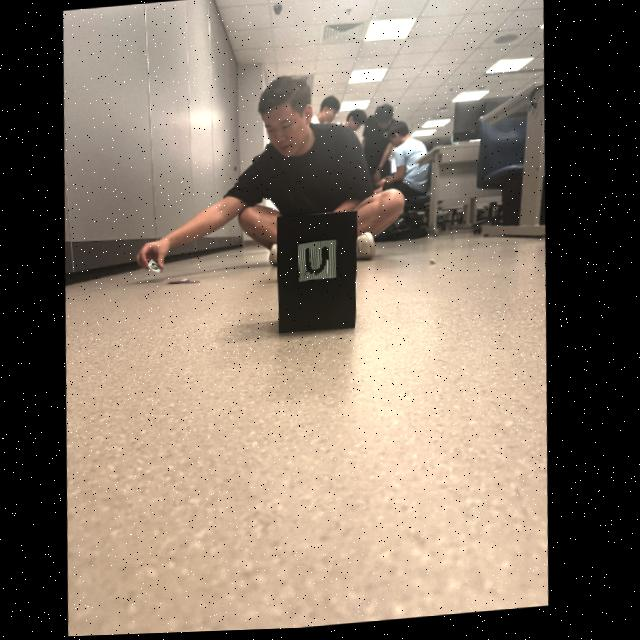U: (308, 250, 330, 277)
